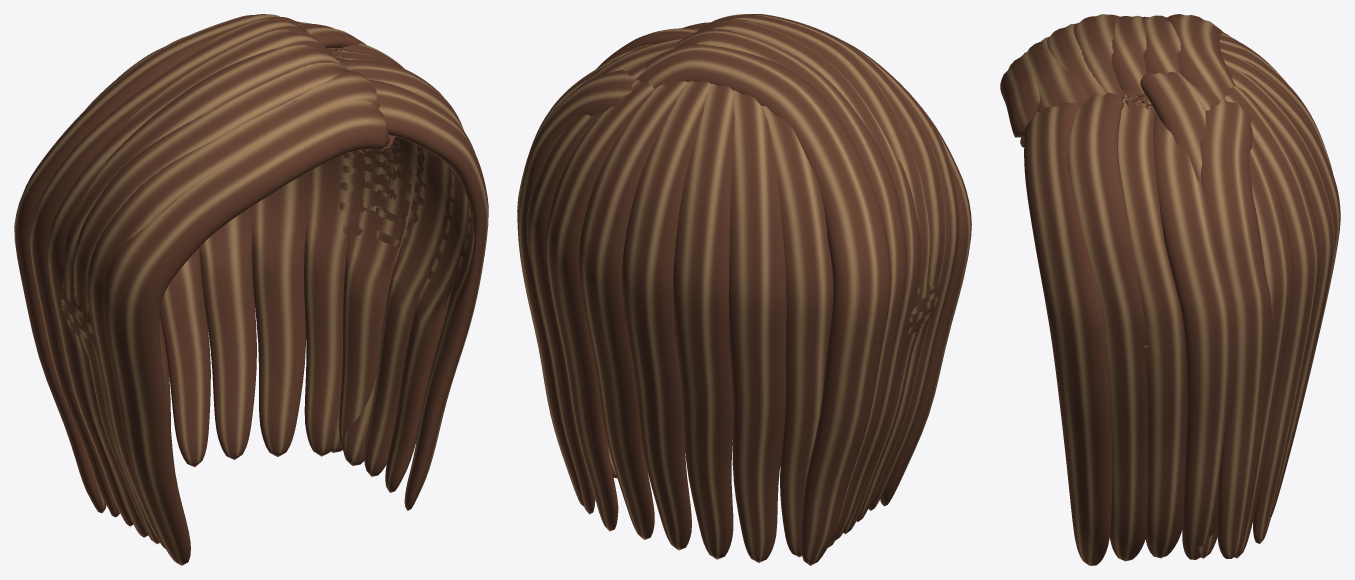
Rendered from Highlights-8e3577a87979252-hair.glb.
The picture shows the model from 3 angles, left to right: view 1: azimuth 30°, elevation 25°; view 2: azimuth 150°, elevation 25°; view 3: azimuth 270°, elevation 25°; orthographic projection.
Visible parts, largest first — view 1: 226 hair / Hair / sculpted 0.002, 226 hair / Hair / sculpted 1.004, 226 hair / Hair / sculpted 2.002; view 2: 226 hair / Hair / sculpted 0.002, 226 hair / Hair / sculpted 2.002, 226 hair / Hair / sculpted 1.004; view 3: 226 hair / Hair / sculpted 1.004, 226 hair / Hair / sculpted 2.002, 226 hair / Hair / sculpted 0.002.
Boxes of the visible parts, x1=… form: 226 hair / Hair / sculpted 0.002: x1=14, y1=14, x2=455, y2=565; 226 hair / Hair / sculpted 1.004: x1=47, y1=23, x2=488, y2=548; 226 hair / Hair / sculpted 2.002: x1=30, y1=19, x2=471, y2=544; 226 hair / Hair / sculpted 0.002: x1=545, y1=14, x2=971, y2=565; 226 hair / Hair / sculpted 2.002: x1=517, y1=14, x2=945, y2=557; 226 hair / Hair / sculpted 1.004: x1=517, y1=14, x2=959, y2=562; 226 hair / Hair / sculpted 1.004: x1=1024, y1=15, x2=1335, y2=565; 226 hair / Hair / sculpted 2.002: x1=1045, y1=15, x2=1340, y2=561; 226 hair / Hair / sculpted 0.002: x1=1000, y1=14, x2=1332, y2=558.
Bounding box in the file's own units: 1.02 × 1.21 × 0.7803.
4 materials, 4 textured.
